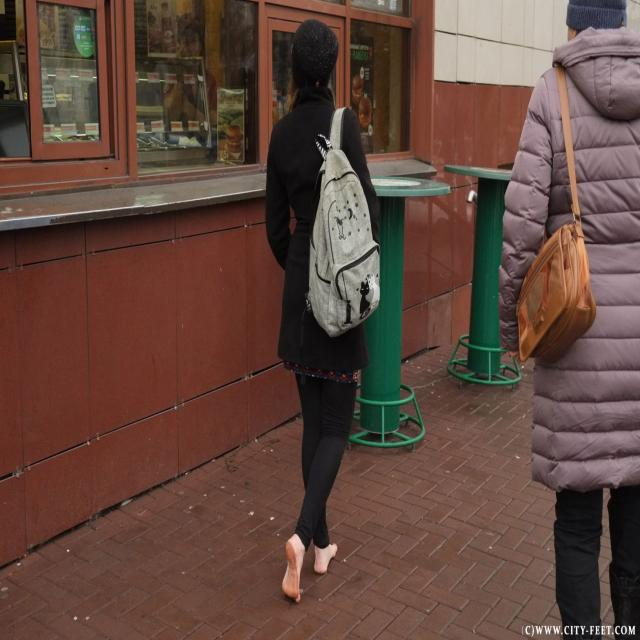Barefoots: (282, 536, 301, 603), (314, 544, 337, 574)
